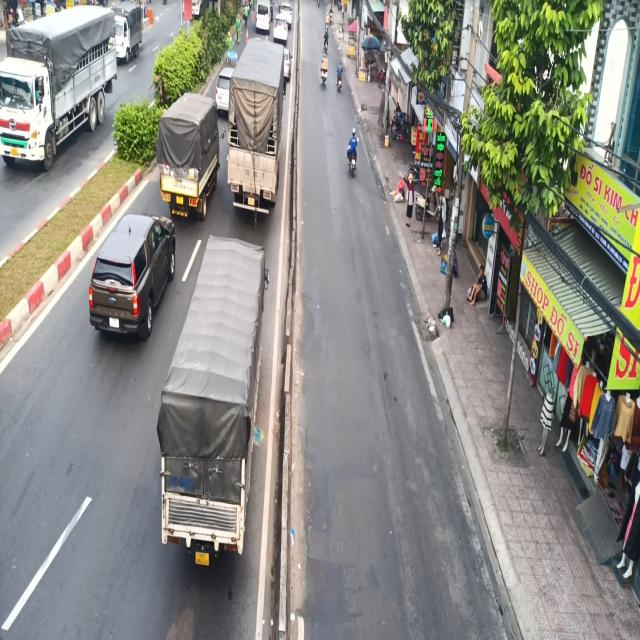car: (84, 207, 179, 350)
motor: (342, 127, 362, 182)
truck: (160, 237, 268, 604), (226, 42, 289, 215), (157, 90, 221, 222)
